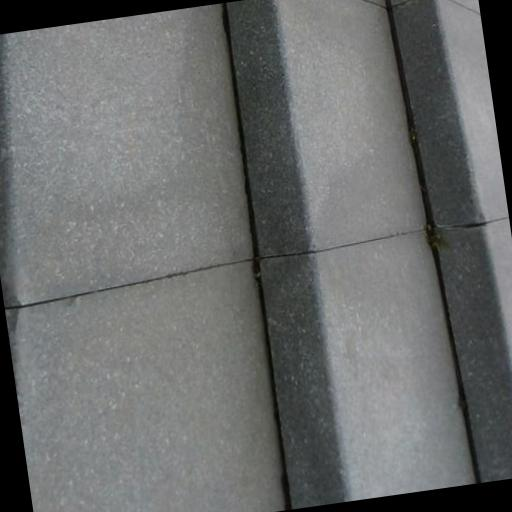stairs: (0, 0, 511, 511), (225, 0, 475, 508)
